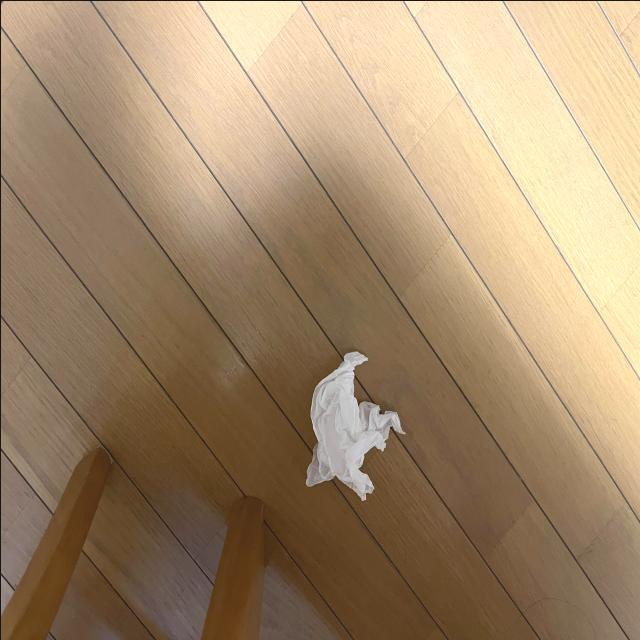Paper: (273, 344, 417, 504)
